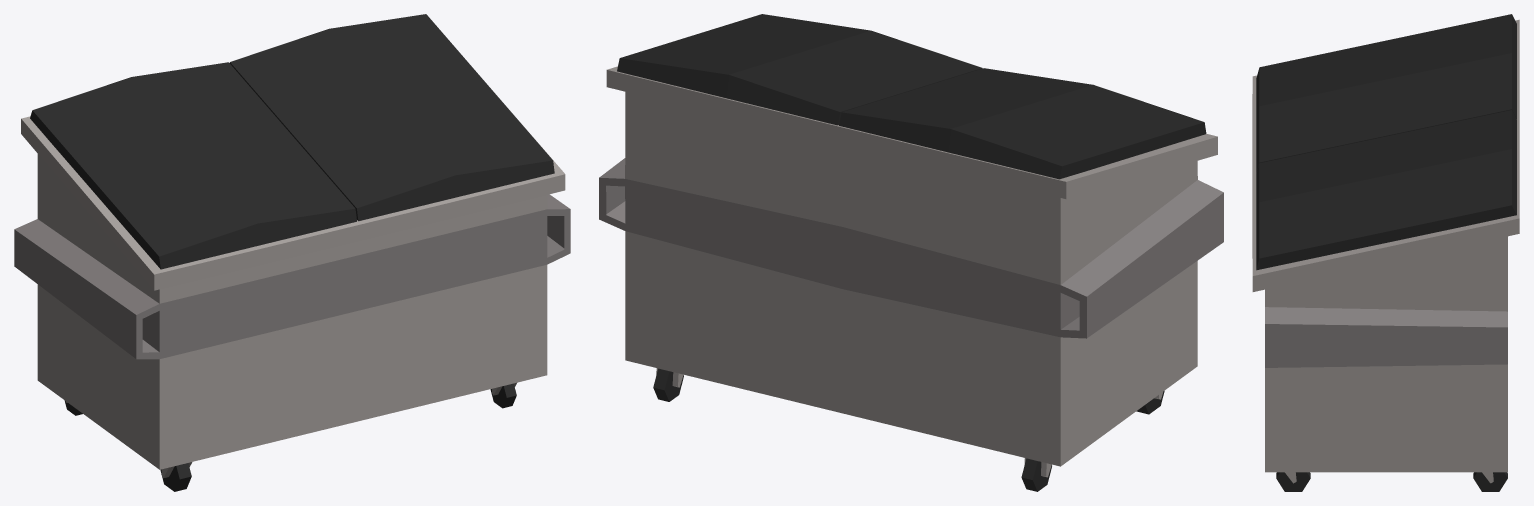
Rendered from dumpster-lids.glb.
3 renders of one model, left to right at view 1: azimuth 30°, elevation 25°; view 2: azimuth 150°, elevation 25°; view 3: azimuth 270°, elevation 25°, orthographic. The views are drawn at different scales.
Visible parts, largest first — view 1: dumpster-lids-base, dumpster-lid_L, dumpster-lid_B; view 2: dumpster-lids-base, dumpster-lid_L, dumpster-lid_B; view 3: dumpster-lids-base, dumpster-lid_B, dumpster-lid_L.
Boxes of the visible parts, bbox=[...] form: dumpster-lids-base: bbox=[14, 91, 570, 491]; dumpster-lid_L: bbox=[30, 62, 356, 269]; dumpster-lid_B: bbox=[229, 14, 554, 221]; dumpster-lids-base: bbox=[599, 66, 1223, 491]; dumpster-lid_L: bbox=[839, 68, 1206, 179]; dumpster-lid_B: bbox=[617, 14, 982, 125]; dumpster-lids-base: bbox=[1252, 19, 1519, 491]; dumpster-lid_B: bbox=[1256, 110, 1516, 270]; dumpster-lid_L: bbox=[1256, 14, 1516, 173].
Bounding box in the file's own units: 2.05 × 1.42 × 1.1.
Materials: 1 (1 with a texture image).
